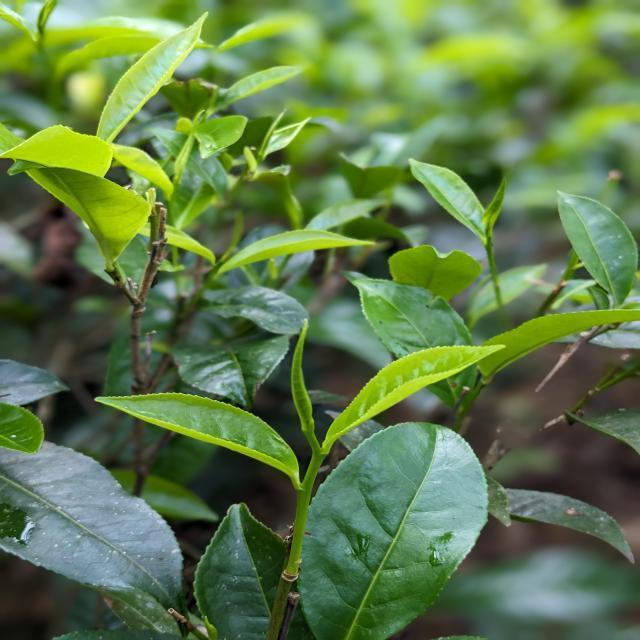Stem: (310, 451, 327, 467)
